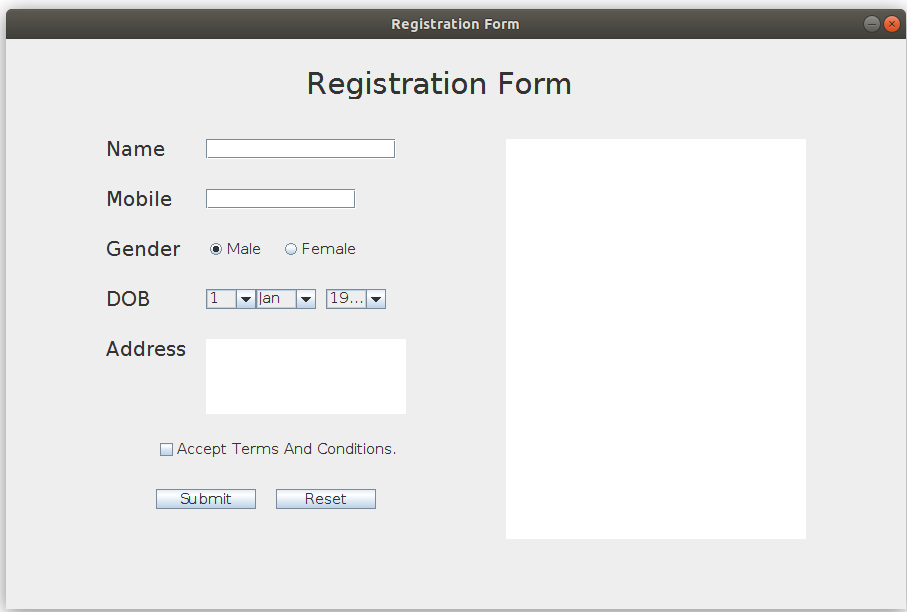Button: (155, 488, 263, 512), (273, 491, 380, 513)
CheckBox: (155, 441, 178, 460)
DropDown: (204, 338, 418, 417), (328, 288, 393, 310), (256, 293, 323, 313), (207, 290, 259, 309)
RadioButton: (282, 236, 298, 259), (204, 240, 224, 258)
TextBox: (203, 136, 406, 166), (203, 187, 362, 208)
